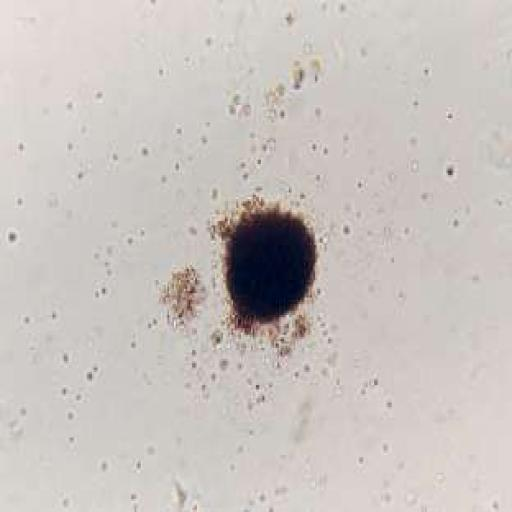CFU-GEMM: (225, 206, 313, 328)
